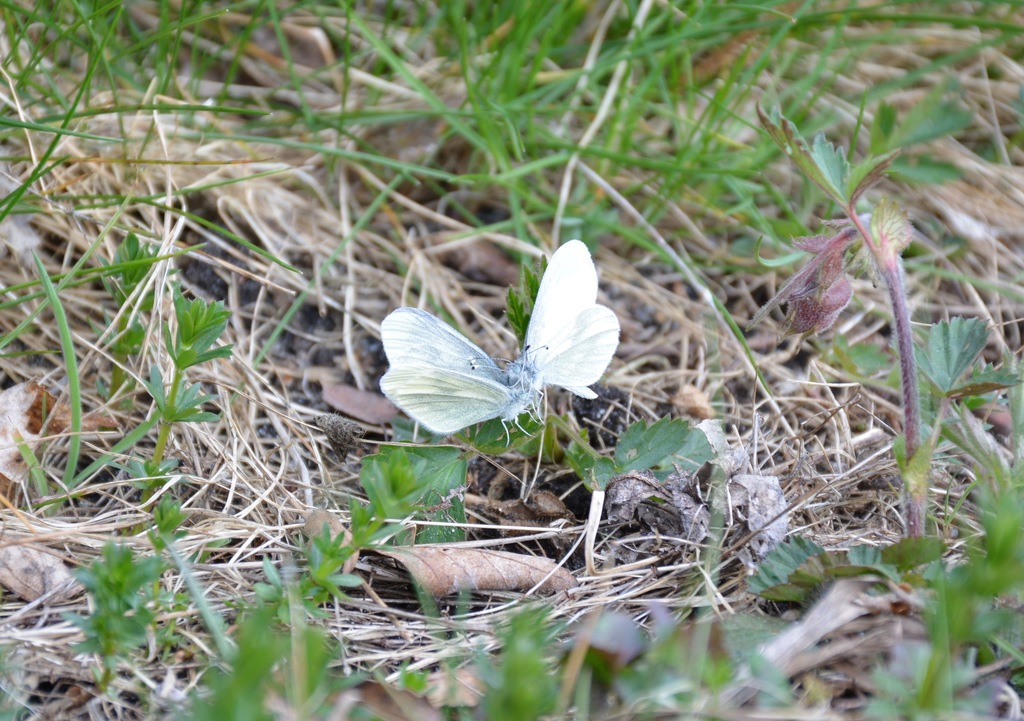Butterfly: (362, 236, 629, 454)
